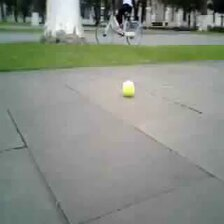tennis: (122, 80, 135, 97)
